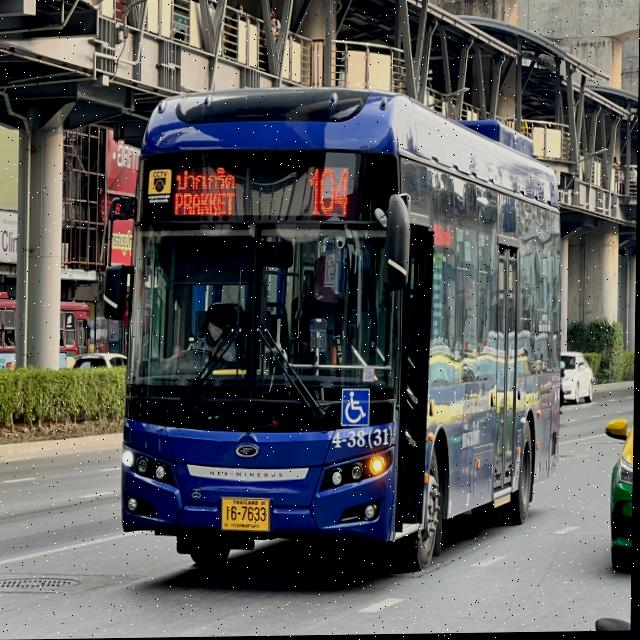Bus-Line-Number: (303, 159, 360, 222)
Destination-Sign-Normal: (168, 164, 247, 224)
TSB-Bus: (119, 71, 571, 604)
